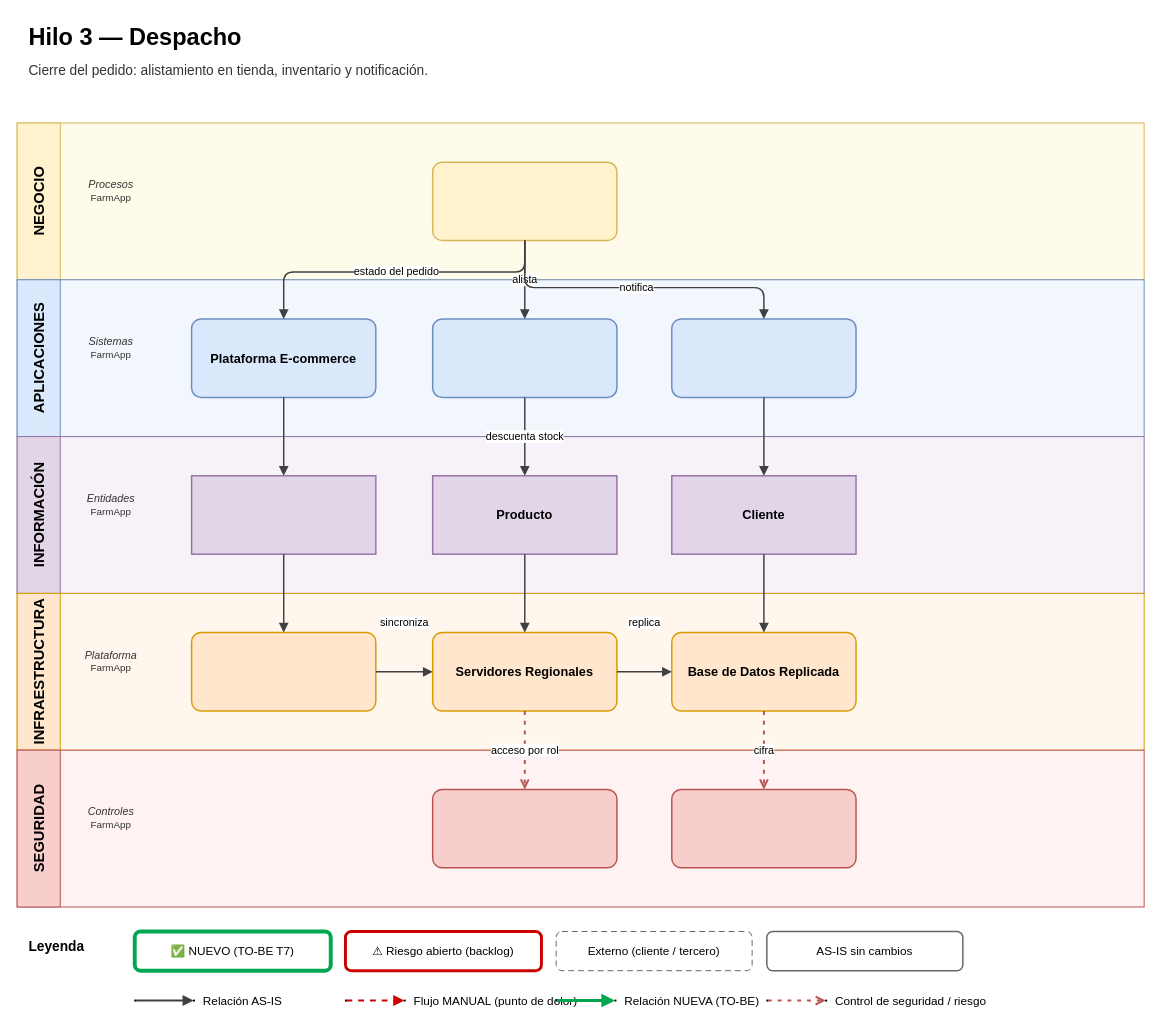
This 1161x1028 diagram has some shape labels left out. Each missing label, with the box of its shape:
Cifrado de datos personales: (671, 788, 856, 868)
Control de acceso por rol: (431, 788, 617, 868)
CRM: (671, 318, 856, 398)
Despacho: (431, 161, 617, 241)
Nube Híbrida: (190, 631, 376, 711)
Pedido: (190, 475, 376, 554)
Sistema POS: (431, 318, 617, 398)
